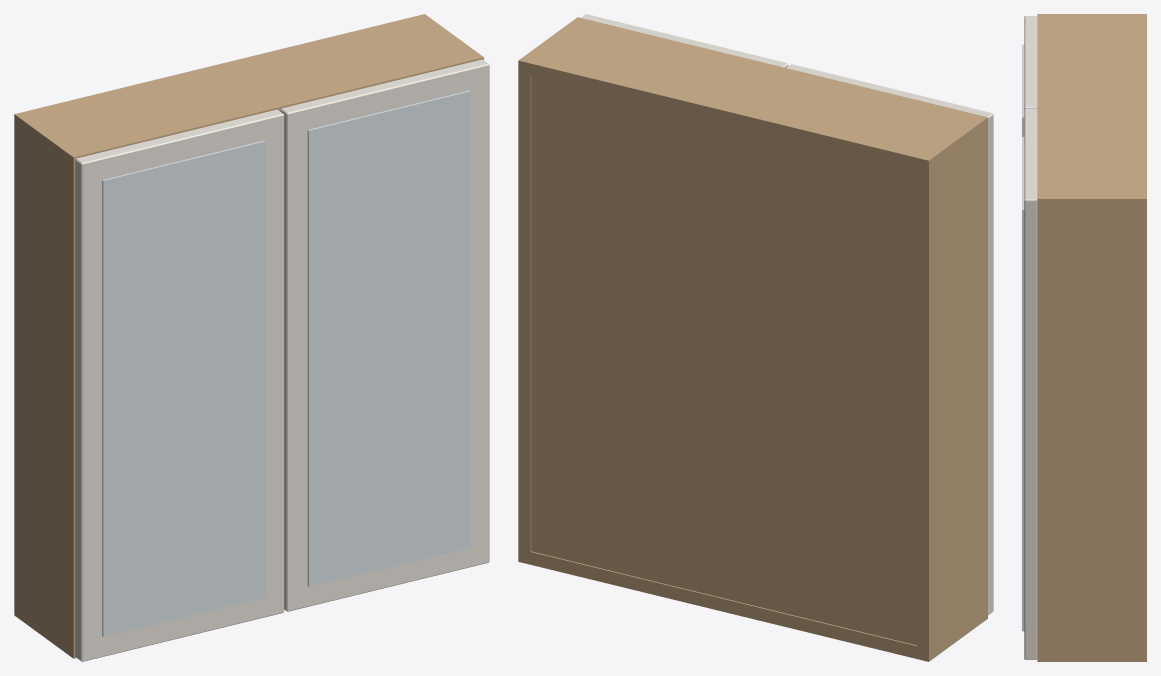
Rendered from 42_szafka_lustrzana_60.glb.
3 renders of one model, left to right at view 1: azimuth 30°, elevation 25°; view 2: azimuth 150°, elevation 25°; view 3: azimuth 270°, elevation 25°, orthographic. The views are drawn at different scales.
Parts seen in each view (by area): view 1: Lustro_2, Lustro_1, Korpus, Front_drzwi_1, Front_drzwi_2; view 2: Korpus, Front_drzwi_1, Front_drzwi_2; view 3: Korpus, Front_drzwi_2, Lustro_2, Front_drzwi_1, Lustro_1.
Part boxes in pixels (x1,y1,x2,y2): Lustro_2: [307, 90, 470, 586]; Lustro_1: [102, 140, 265, 636]; Korpus: [14, 14, 483, 658]; Front_drzwi_1: [75, 109, 284, 661]; Front_drzwi_2: [280, 59, 489, 611]; Korpus: [518, 17, 987, 661]; Front_drzwi_1: [786, 64, 993, 615]; Front_drzwi_2: [581, 14, 788, 67]; Korpus: [1037, 14, 1146, 661]; Front_drzwi_2: [1024, 108, 1037, 659]; Lustro_2: [1022, 137, 1024, 631]; Front_drzwi_1: [1024, 16, 1037, 108]; Lustro_1: [1022, 44, 1024, 136].
Size of the model in its own units: 0.6 by 0.7 by 0.171.
